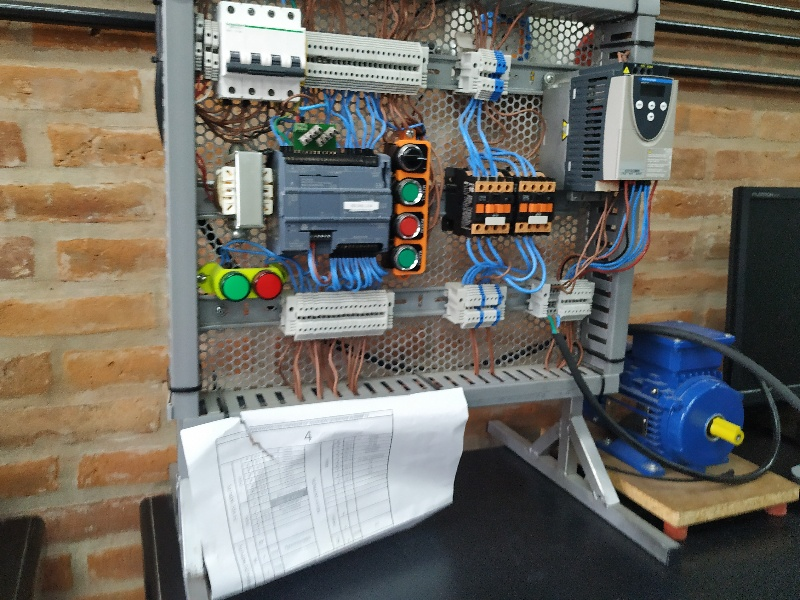Tablero 4: (189, 1, 681, 376)
